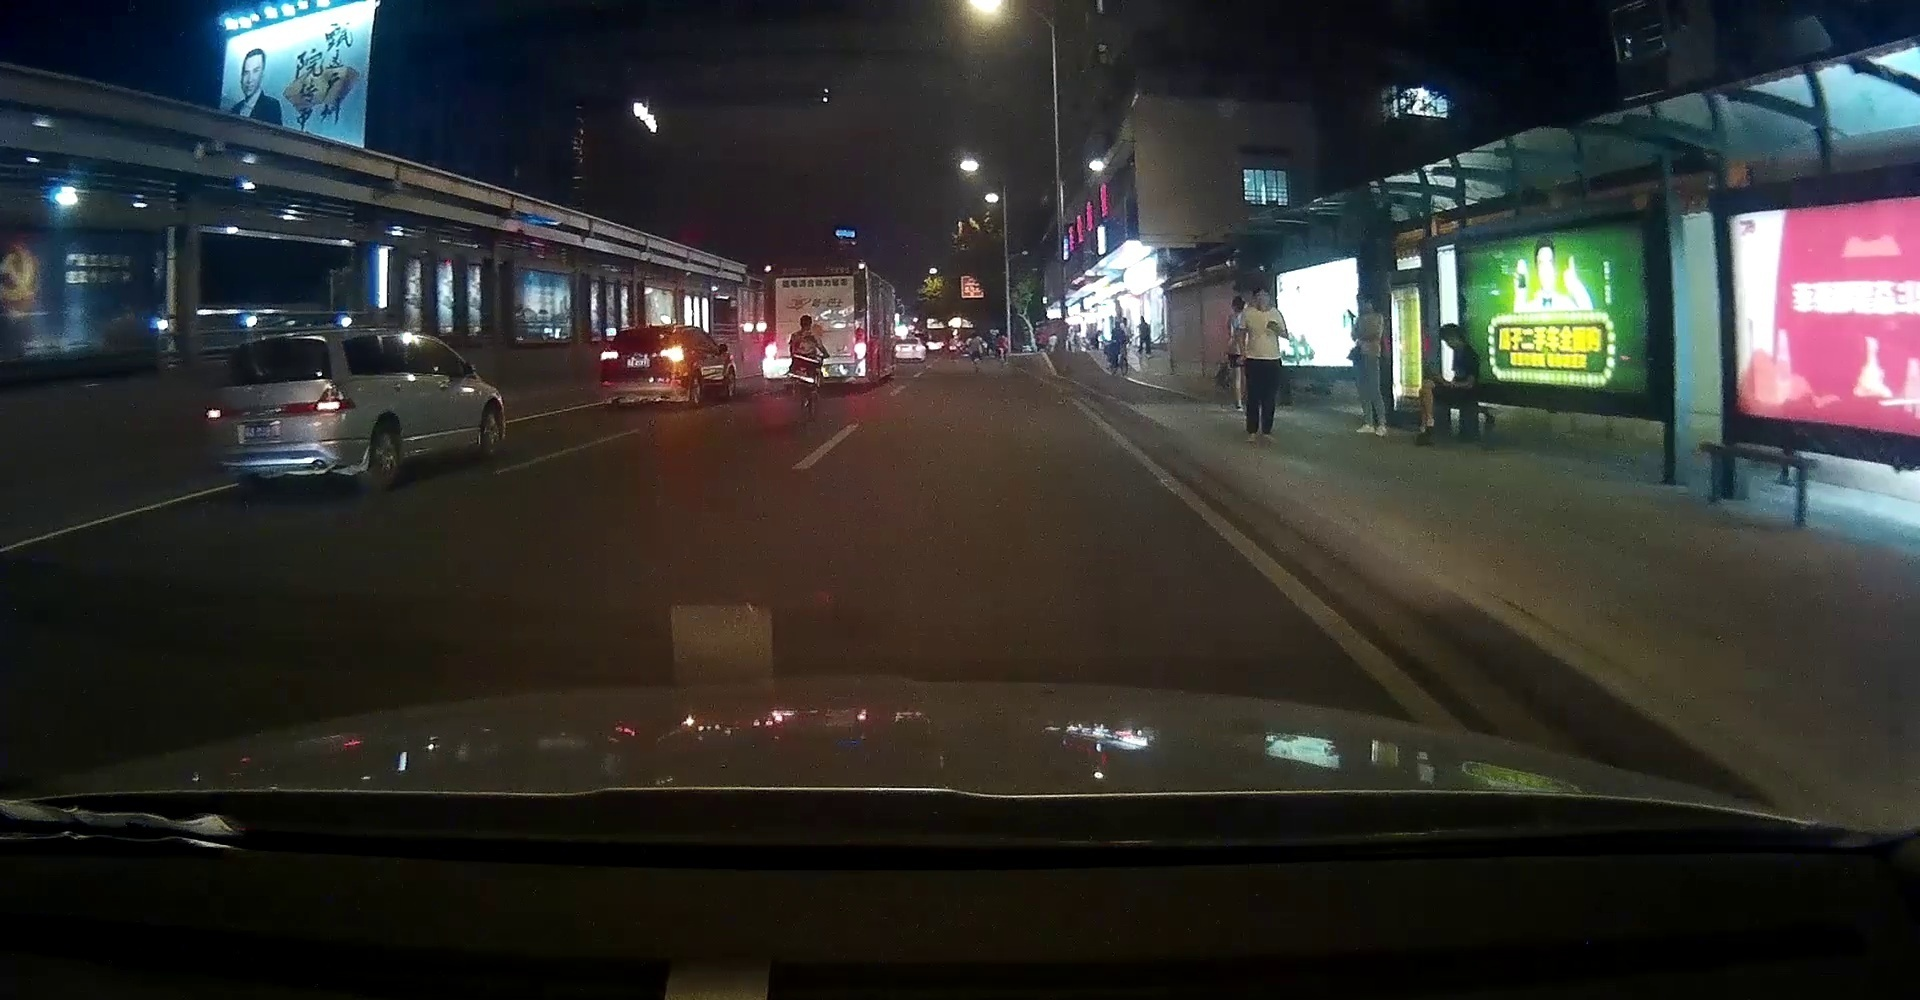L_light: (206, 401, 227, 420), (764, 331, 775, 357), (599, 352, 618, 360)
R_light: (316, 382, 356, 412), (855, 329, 863, 355), (659, 349, 682, 358)
T_light: (262, 341, 286, 346), (637, 329, 655, 332), (808, 272, 824, 274)
night-no: (206, 332, 357, 494), (764, 263, 866, 390), (599, 325, 684, 409)
